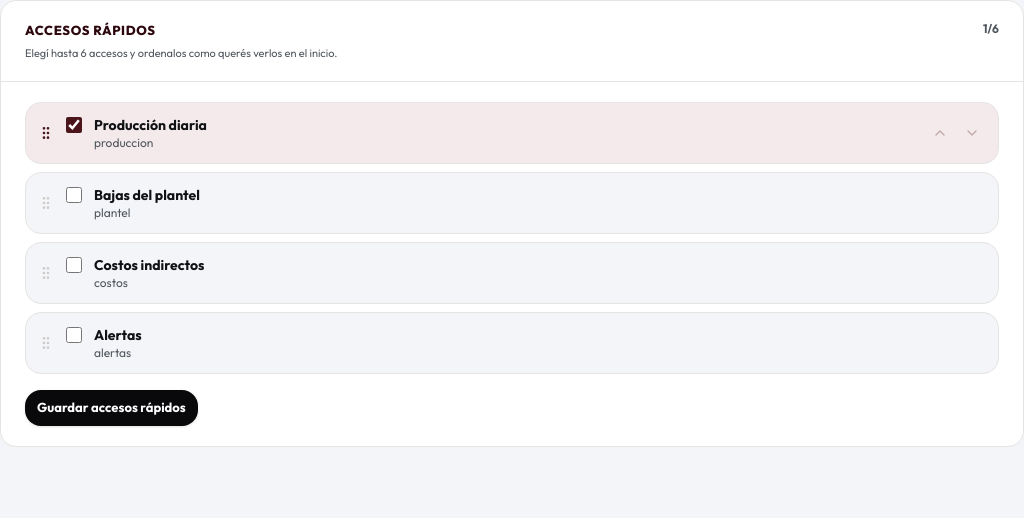
accesos rápidos configurables › elige, reordena y guarda hasta seis accesos en el orden visible
This screenshot has width=1024, height=518.
Click the checkbox labelled "Costos indirectos" at (74,265), box [66, 257, 82, 273]
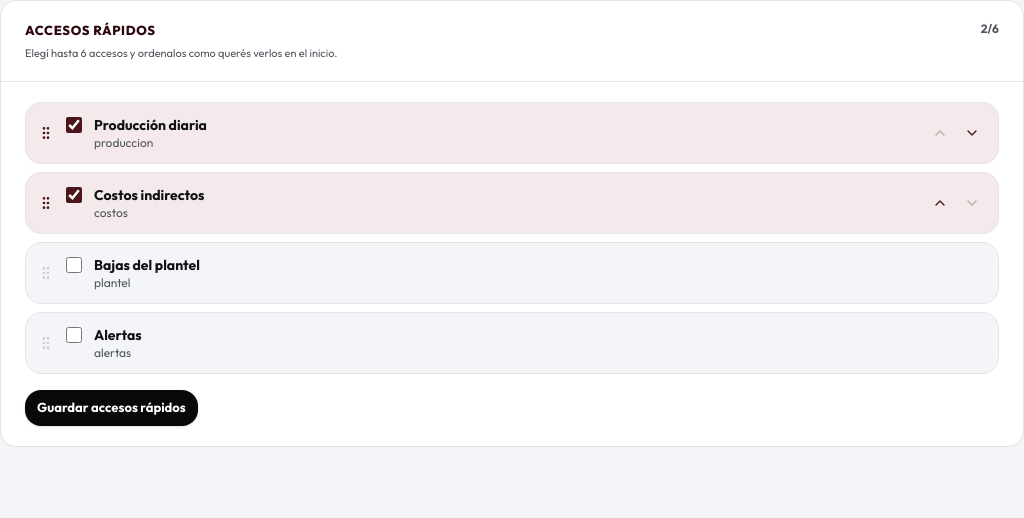
Click the checkbox labelled "Alertas" at (74,335), box [66, 327, 82, 343]
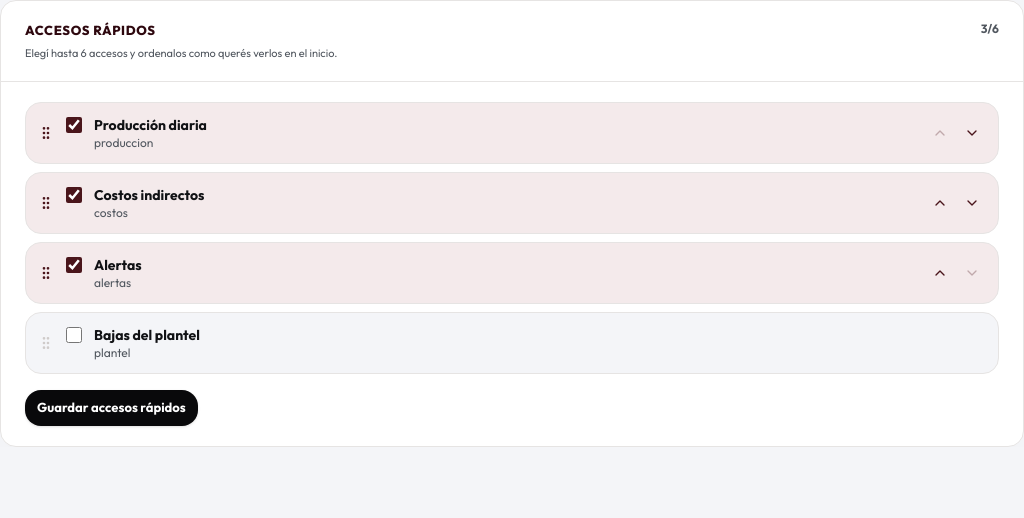
Click the button named "Subir Costos indirectos" at (940,203), box [926, 189, 954, 217]
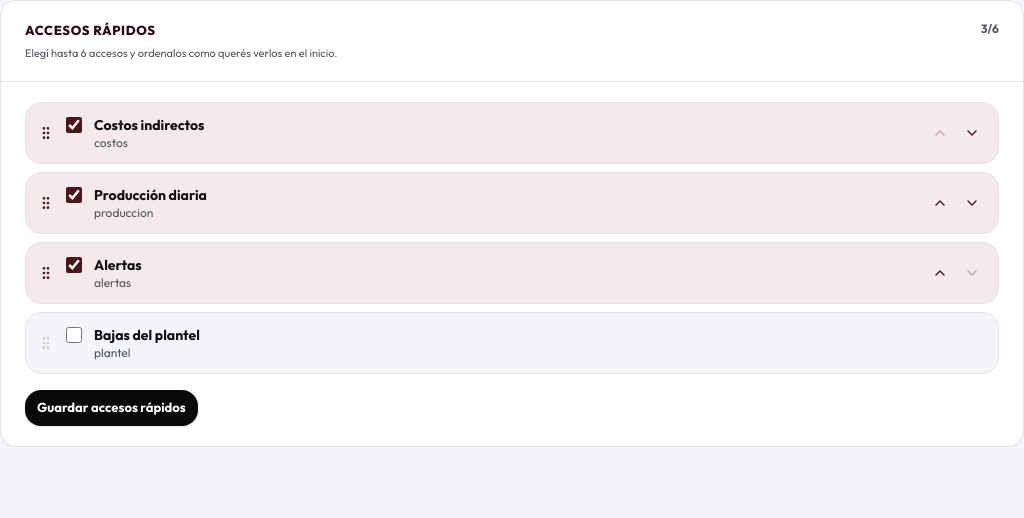
Click the button "Guardar accesos rápidos" at (111,408), box [25, 390, 198, 426]
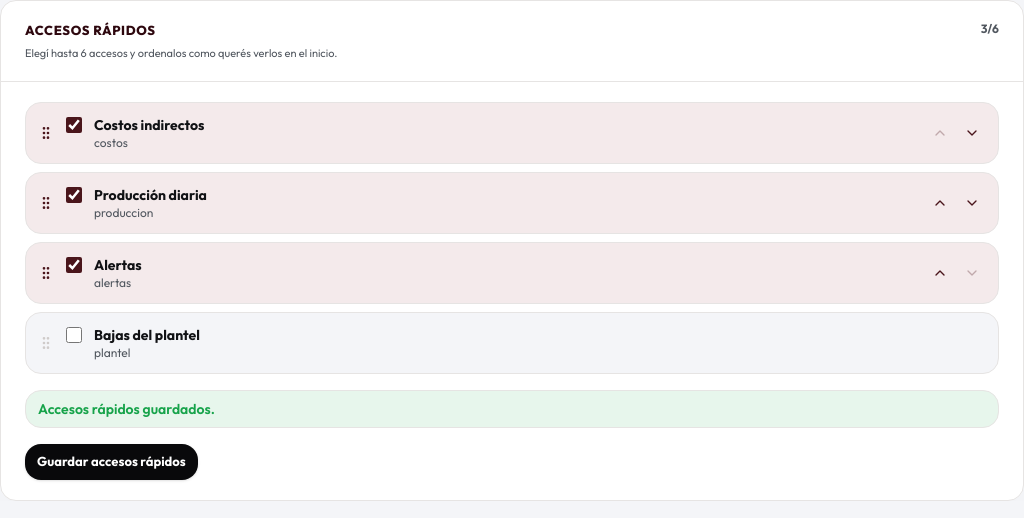
Expected: the text "Accesos rápidos guardados." is shown, [25, 390, 999, 428]
